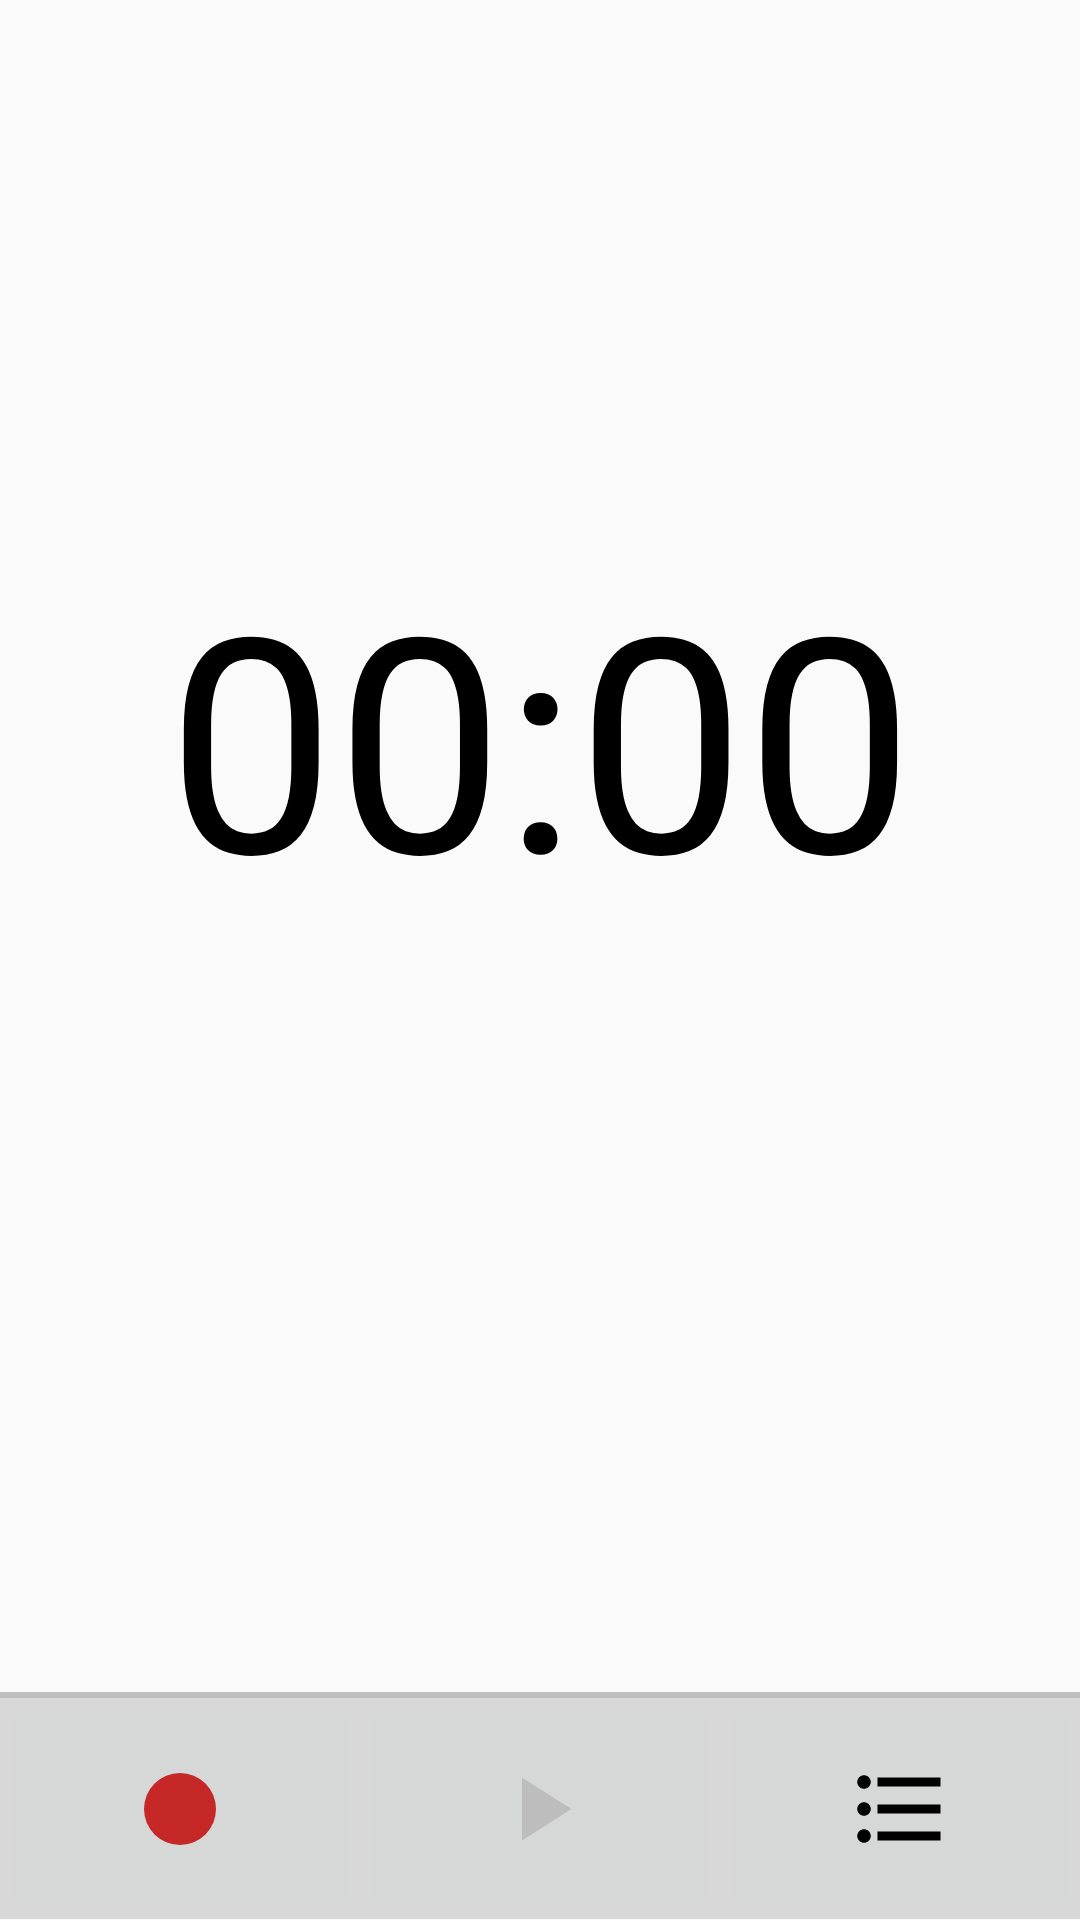

Locate icon controls on the screen. Image size 1080*1920, boxes as (x1, y1, x2, y2).
list: (857, 1775, 941, 1843)
play: (522, 1778, 570, 1840)
record: (144, 1773, 216, 1845)
